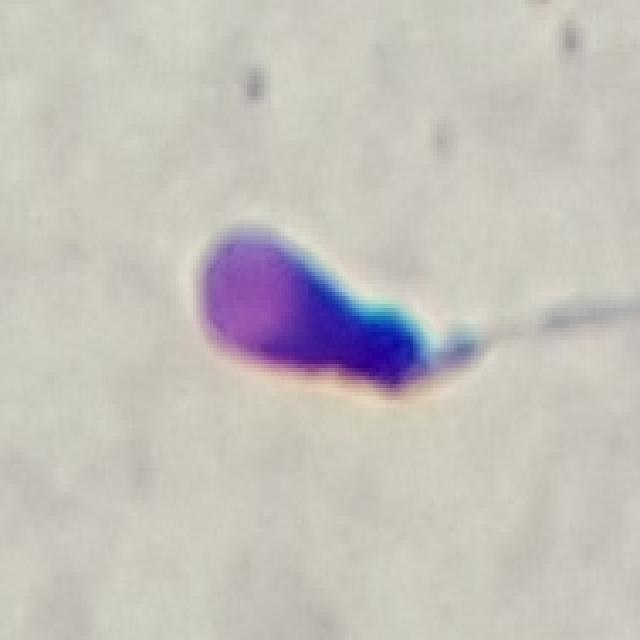abnormal sperm: (182, 204, 632, 403)
